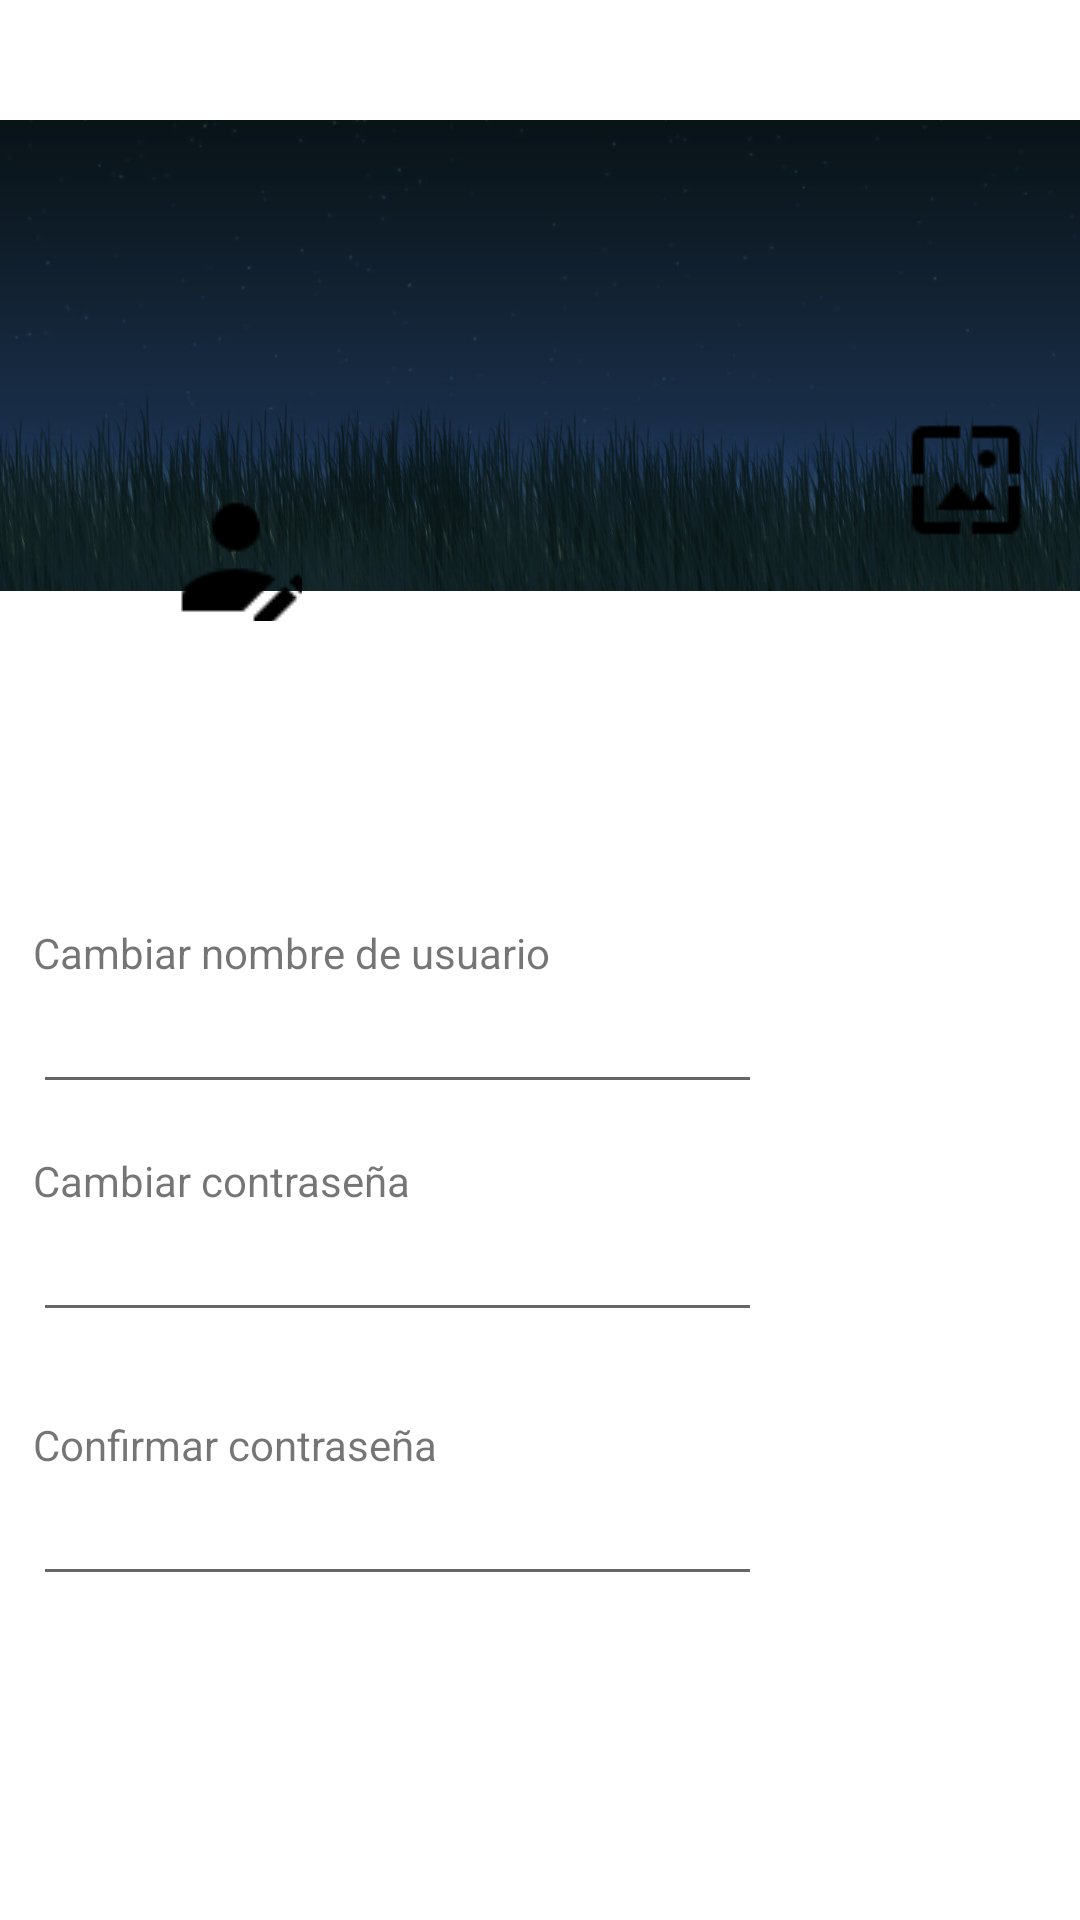

Icon click points for this 1080w x 1920h phone screenshot, format (x=x, y=y):
iconofondo: (x=966, y=480)
